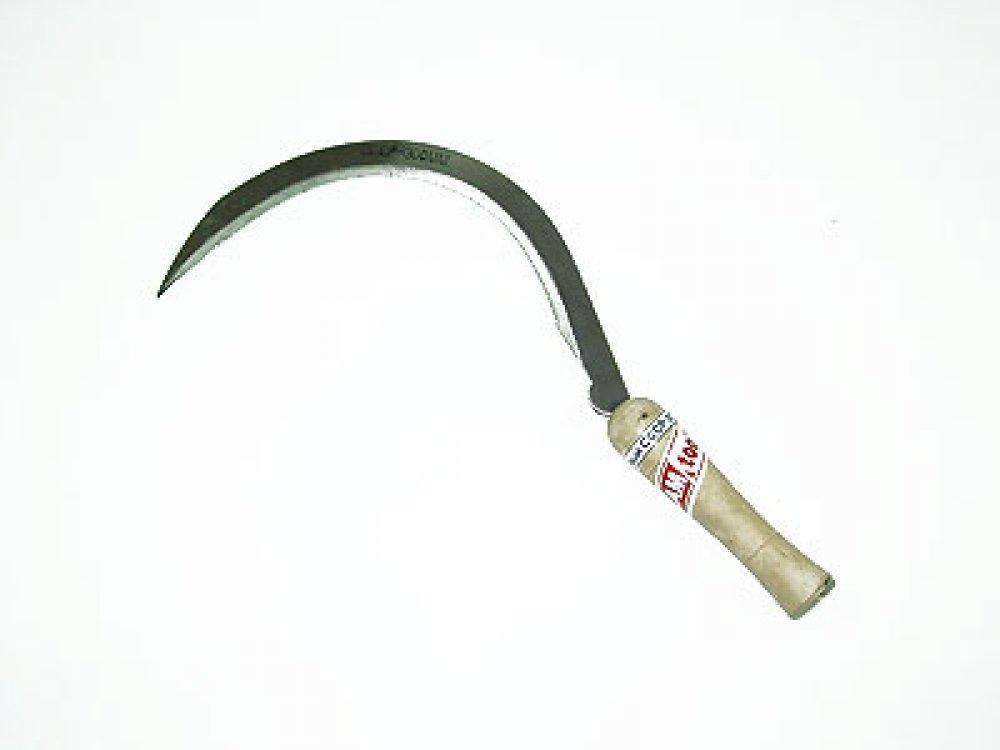foice: (154, 126, 834, 618)
